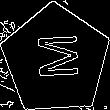M_W: (31, 36, 81, 84)
